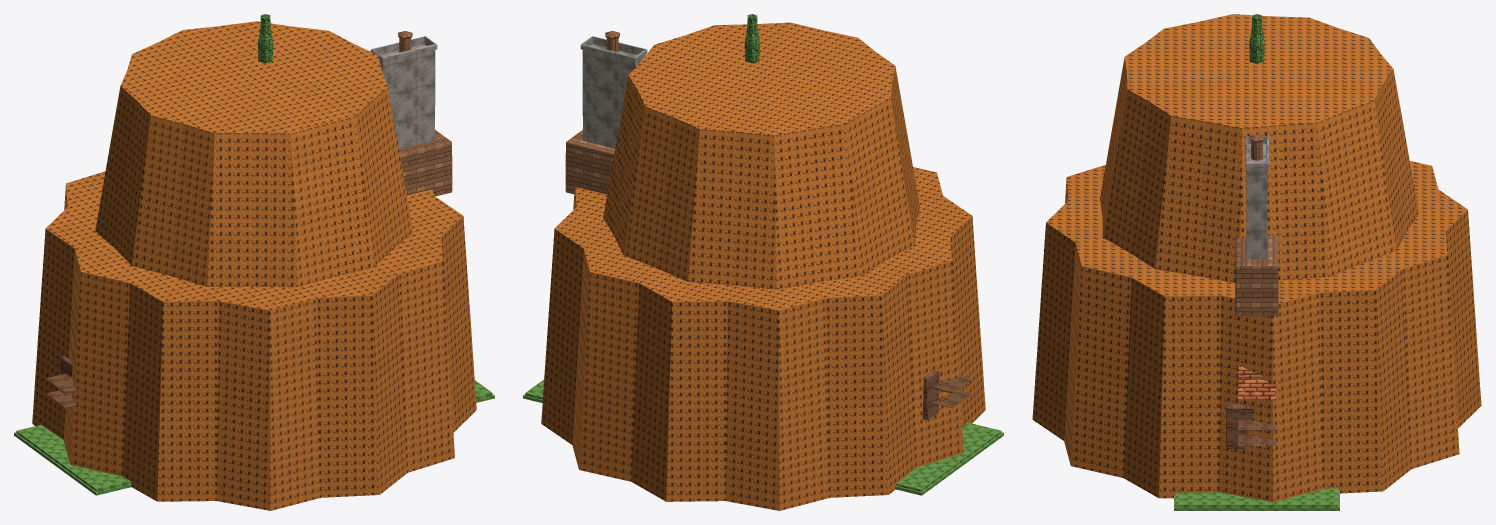
Rendered from pumpkin_house.glb.
3 renders of one model, left to right at view 1: azimuth 30°, elevation 25°; view 2: azimuth 150°, elevation 25°; view 3: azimuth 270°, elevation 25°, orthographic.
Visible parts, largest first — view 1: pumpkin_house_pumpkin_lower, pumpkin_house_pumpkin_upper, pumpkin_house_chimney, pumpkin_house_ground_patch, pumpkin_house_balcony, pumpkin_house_fence_front, pumpkin_house_stem; view 2: pumpkin_house_pumpkin_lower, pumpkin_house_pumpkin_upper, pumpkin_house_chimney, pumpkin_house_ground_patch, pumpkin_house_balcony, pumpkin_house_fence_front, pumpkin_house_stem; view 3: pumpkin_house_pumpkin_lower, pumpkin_house_pumpkin_upper, pumpkin_house_balcony, pumpkin_house_ground_patch, pumpkin_house_chimney, pumpkin_house_fence_front, pumpkin_house_side_lean_roof, pumpkin_house_stem.
Boxes of the visible parts, left/top/right/bottom form: pumpkin_house_pumpkin_lower: left=32, top=171, right=476, bottom=510; pumpkin_house_pumpkin_upper: left=95, top=21, right=412, bottom=287; pumpkin_house_chimney: left=370, top=36, right=437, bottom=149; pumpkin_house_ground_patch: left=14, top=380, right=494, bottom=495; pumpkin_house_balcony: left=399, top=130, right=452, bottom=196; pumpkin_house_fence_front: left=45, top=355, right=77, bottom=407; pumpkin_house_stem: left=258, top=14, right=273, bottom=63; pumpkin_house_pumpkin_lower: left=541, top=167, right=985, bottom=510; pumpkin_house_pumpkin_upper: left=603, top=22, right=919, bottom=289; pumpkin_house_chimney: left=580, top=36, right=647, bottom=148; pumpkin_house_ground_patch: left=523, top=379, right=1003, bottom=495; pumpkin_house_balcony: left=565, top=130, right=615, bottom=194; pumpkin_house_fence_front: left=922, top=370, right=972, bottom=420; pumpkin_house_stem: left=744, top=14, right=759, bottom=63; pumpkin_house_pumpkin_lower: left=1032, top=161, right=1481, bottom=502; pumpkin_house_pumpkin_upper: left=1100, top=14, right=1418, bottom=282; pumpkin_house_balcony: left=1235, top=234, right=1278, bottom=316; pumpkin_house_ground_patch: left=1174, top=488, right=1339, bottom=510; pumpkin_house_chimney: left=1245, top=136, right=1268, bottom=259; pumpkin_house_fence_front: left=1226, top=404, right=1287, bottom=448; pumpkin_house_side_lean_roof: left=1237, top=365, right=1276, bottom=399; pumpkin_house_stem: left=1249, top=14, right=1264, bottom=63.
Size of the model in its own units: 11.5 by 10.97 by 11.11.
Materials: 10 (9 with a texture image).
